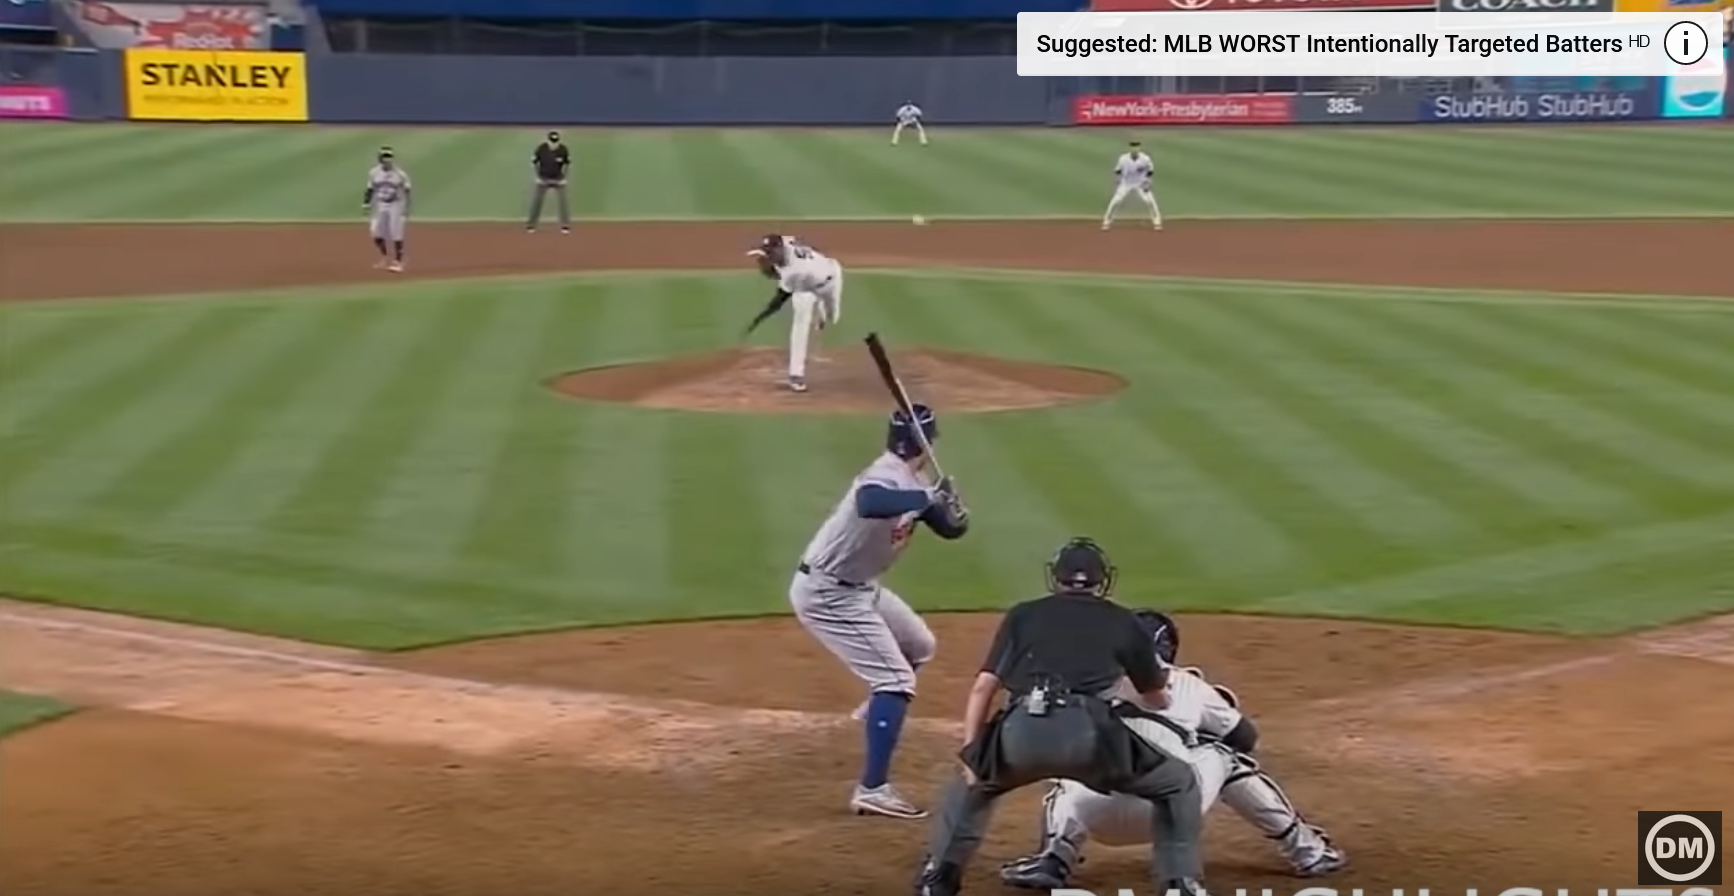ball: (910, 214, 931, 231)
